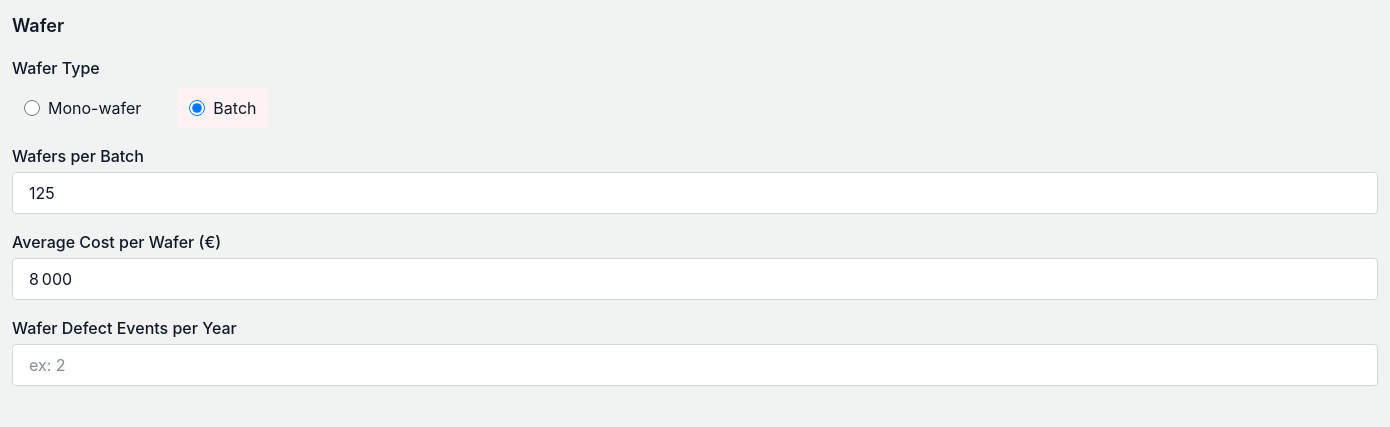
WaferInputs › clears error when valid input is entered after invalid
Replace the text in the number field labelled "Wafers per Batch" with "0" at (695, 193), box x1=12 y1=172 x2=1378 y2=214
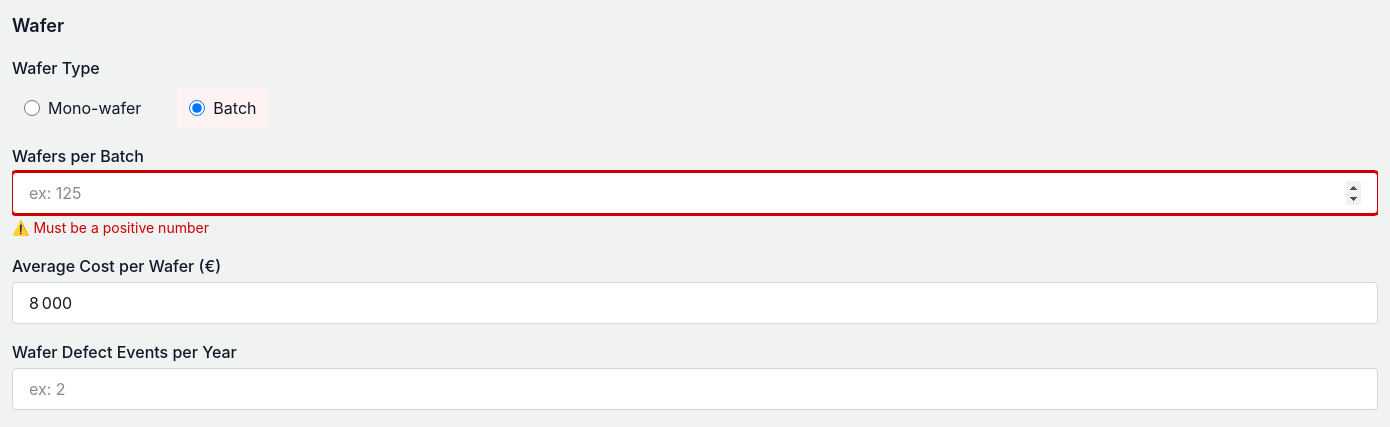
Expected: the text "⚠️ Must be a positive number" is shown, x1=12 y1=219 x2=209 y2=236
Type "50" into the number field labelled "Wafers per Batch".
click(695, 193); type("50")  # box x1=12 y1=172 x2=1378 y2=214
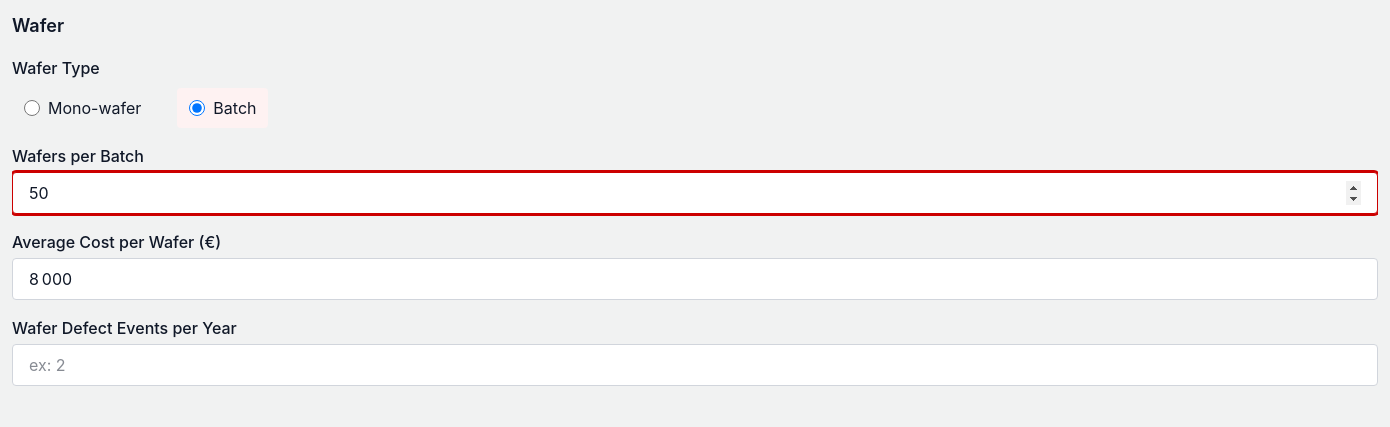
Expected: the text "Must be a positive number" is gone
